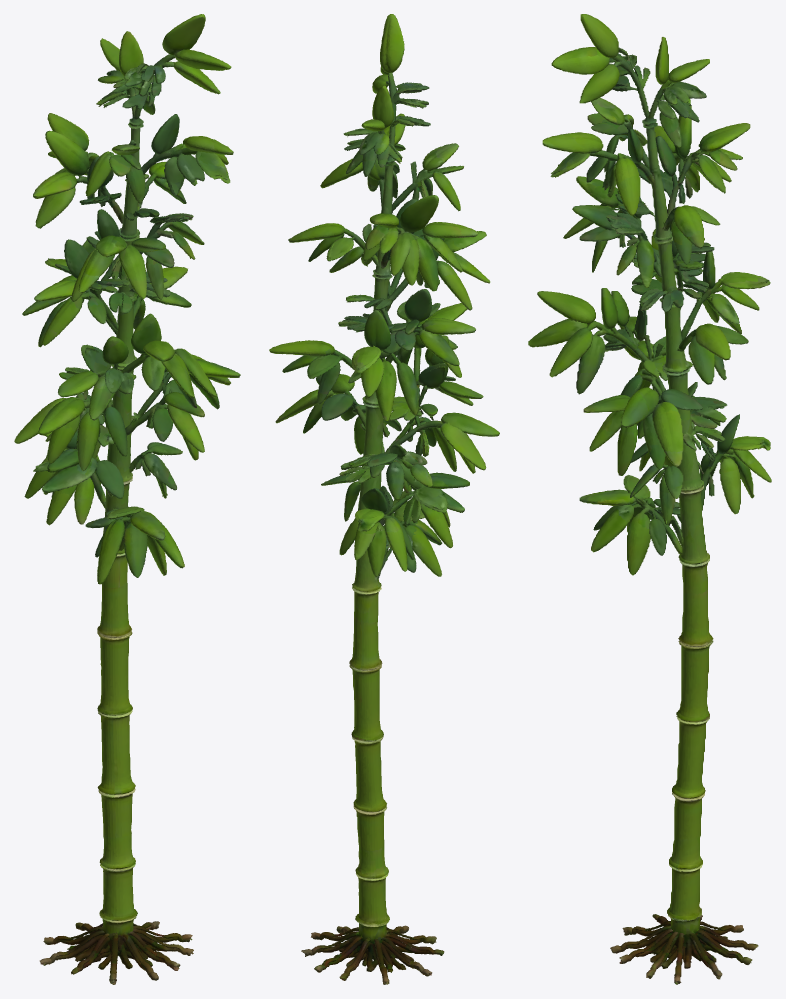
Rendered from XieShiZhu.glb.
3 views of the same model, side by side, from view 1: azimuth 30°, elevation 25°; view 2: azimuth 150°, elevation 25°; view 3: azimuth 270°, elevation 25° (orthographic). The views are drawn at different scales.
Parts seen in each view (by area): view 1: tripo_node_36e48717-f2ae-4833-bcc7-836a958c0654; view 2: tripo_node_36e48717-f2ae-4833-bcc7-836a958c0654; view 3: tripo_node_36e48717-f2ae-4833-bcc7-836a958c0654.
Part boxes in pixels (bbox=[...]): tripo_node_36e48717-f2ae-4833-bcc7-836a958c0654: bbox=[14, 14, 240, 984]; tripo_node_36e48717-f2ae-4833-bcc7-836a958c0654: bbox=[269, 14, 499, 984]; tripo_node_36e48717-f2ae-4833-bcc7-836a958c0654: bbox=[528, 14, 771, 984].
Size of the model in its own units: 0.2339 by 0.9805 by 0.2271.
Materials: 1 (1 with a texture image).
